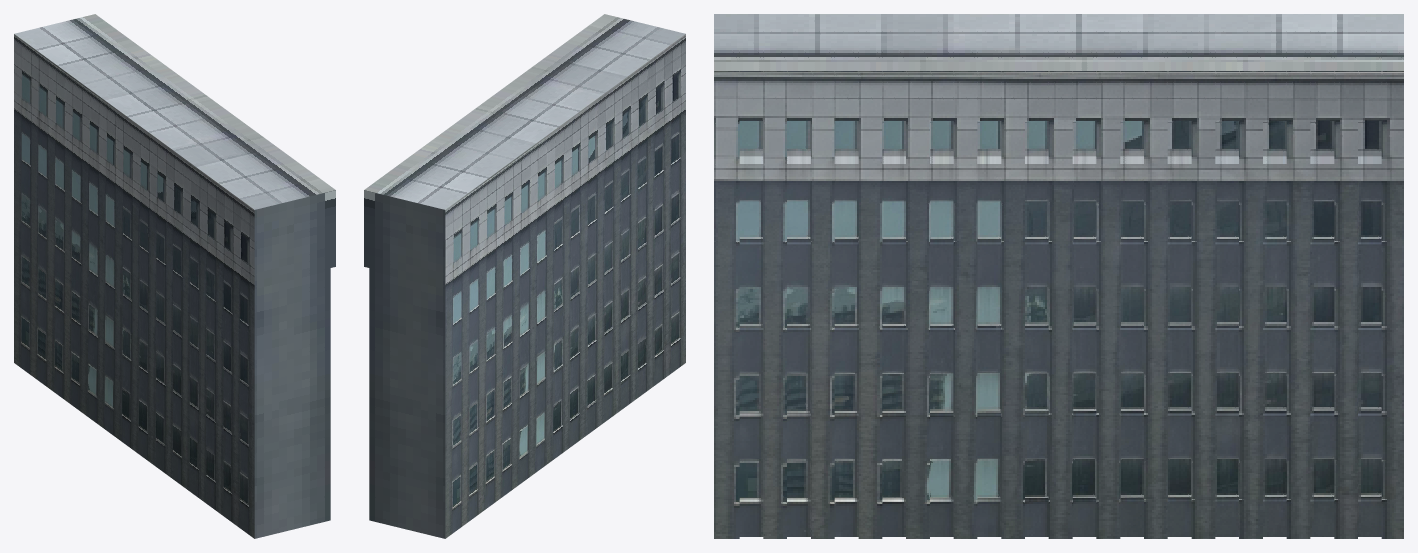
File: modularbuildingdarkgrey.glb
The picture shows the model from 3 angles, left to right: view 1: azimuth 30°, elevation 25°; view 2: azimuth 150°, elevation 25°; view 3: azimuth 270°, elevation 25°; orthographic projection. The views are drawn at different scales.
Visible parts, largest first — view 1: Cube; view 2: Cube; view 3: Cube.
Boxes of the visible parts, box(x1,y1,x2,y2) form: Cube: box(14, 14, 335, 538); Cube: box(364, 14, 685, 538); Cube: box(714, 14, 1403, 538).
Bounding box in the file's own units: 2.87 × 11.08 × 14.68.
Materials: 1 (1 with a texture image).
